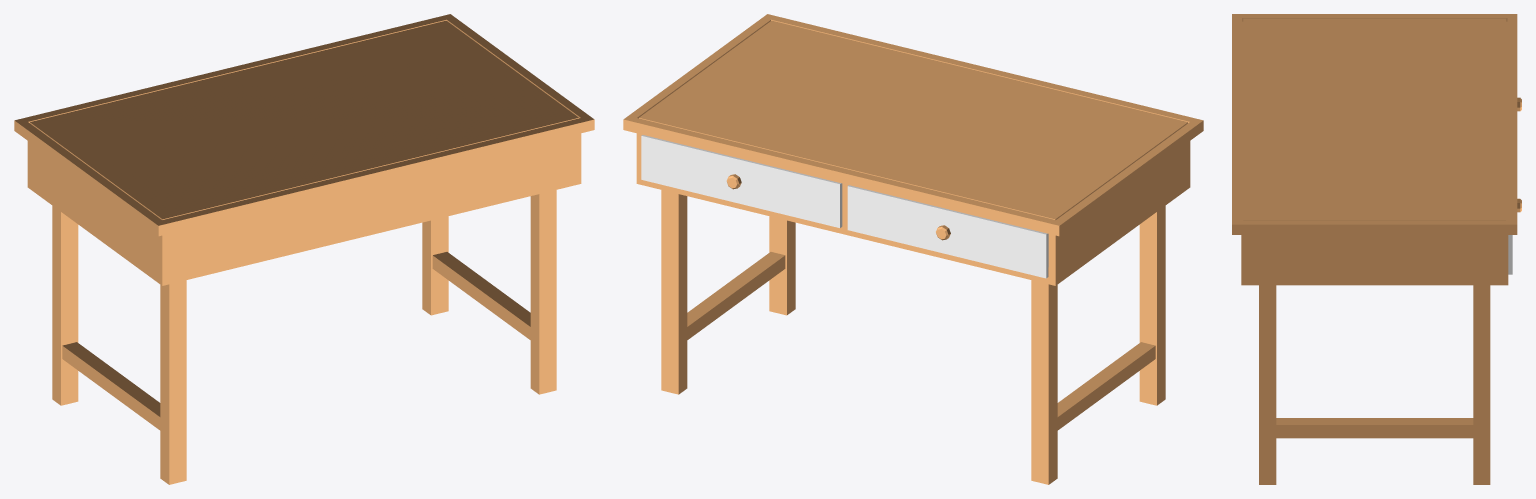
File: Desk 4.fbx
The picture shows the model from 3 angles, left to right: view 1: azimuth 30°, elevation 25°; view 2: azimuth 150°, elevation 25°; view 3: azimuth 270°, elevation 25°; orthographic projection.
Visible parts, largest first — view 1: Node 0; view 2: Node 0, Node 1, Node 2; view 3: Node 0.
Part boxes in pixels (<box>): Node 0: <box>14,14,594,484</box>; Node 0: <box>623,14,1203,484</box>; Node 1: <box>847,185,1048,278</box>; Node 2: <box>641,135,842,227</box>; Node 0: <box>1232,14,1517,484</box>.
Bounding box in the file's own units: 0.929 × 0.9629 × 1.6.
